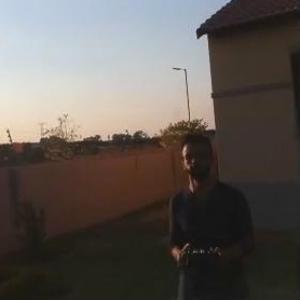follow: (155, 127, 255, 299)
